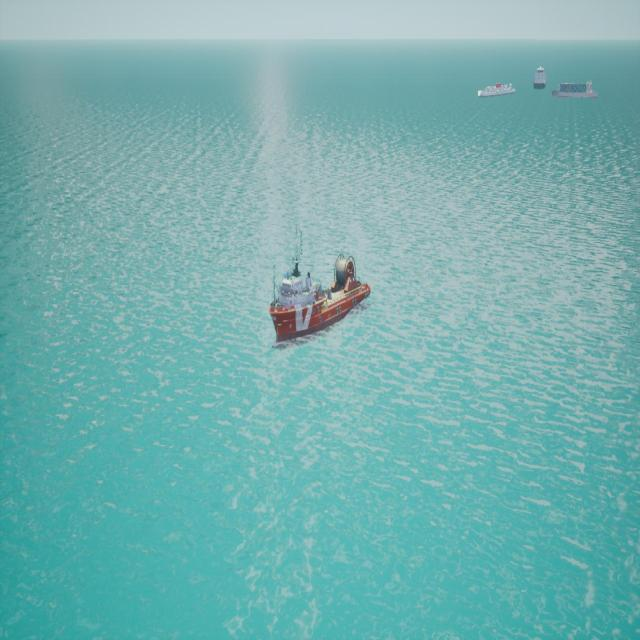tug boat: (268, 249, 370, 348)
